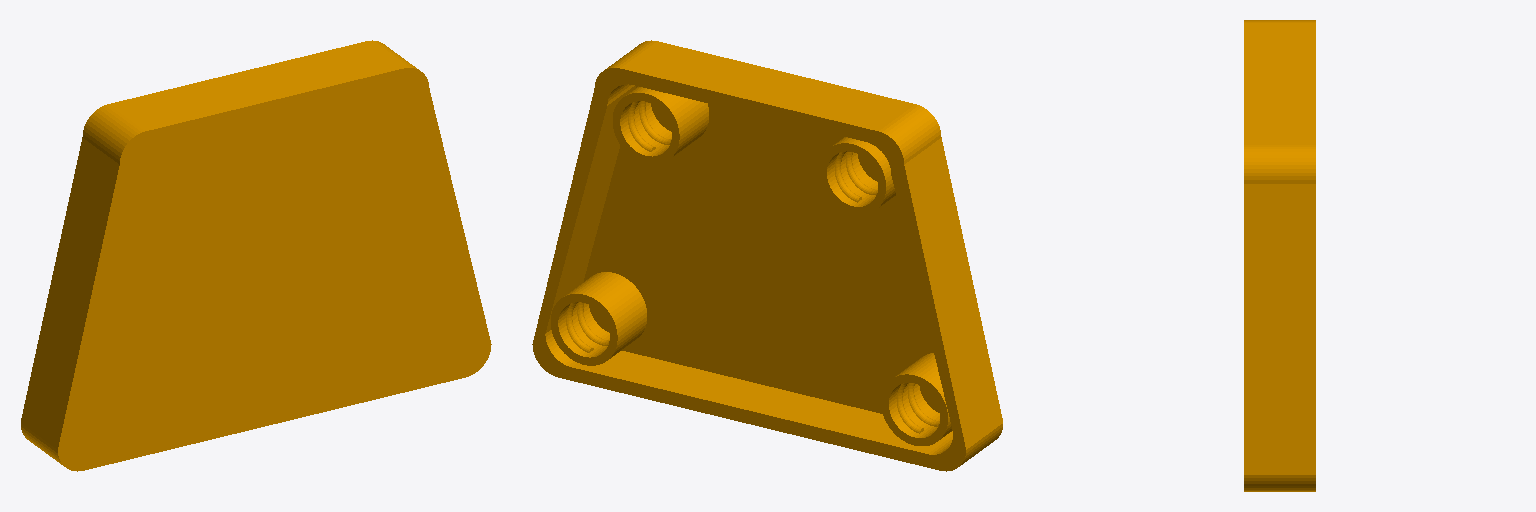
The robot description file, URDF, robot "desk_top_trapezoid":
<?xml version="1.0"?>
<robot name="desk_top_trapezoid">
    <link name="desk_top_trapezoid">
        <visual>
            <geometry>
                <mesh filename="../../mesh/desk/TrapezoidDesk/desk_top.obj" scale="1 1 1"/>
            </geometry>
        </visual>
        <collision>
            <geometry>
                <mesh filename="../../mesh/desk/TrapezoidDesk/desk_top.obj" scale="1 1 1"/>
            </geometry>
            <sdf resolution="512"/>
        </collision>
    </link>
</robot>

--- What the picture shows (computed from the rendered views, not written in the file) ---
3 views of the same robot in one strip: view 1: azimuth 30°, elevation 25°; view 2: azimuth 150°, elevation 25°; view 3: azimuth 270°, elevation 25° (orthographic).
Model desk_top_trapezoid with 1 links and 0 joints (none), rooted at desk_top_trapezoid, posed all joints at 0.
Visible links, largest first — view 1: desk_top_trapezoid; view 2: desk_top_trapezoid; view 3: desk_top_trapezoid.
Boxes of the visible links, x1,y1,x2,y2 form: desk_top_trapezoid: [21, 40, 491, 471]; desk_top_trapezoid: [532, 40, 1002, 471]; desk_top_trapezoid: [1244, 20, 1315, 491].
Size in the robot's own frame: 0.21 by 0.0312 by 0.15 metres.
Meshes: 1 distinct files referenced, 1 mesh visuals loaded (1 OBJ).